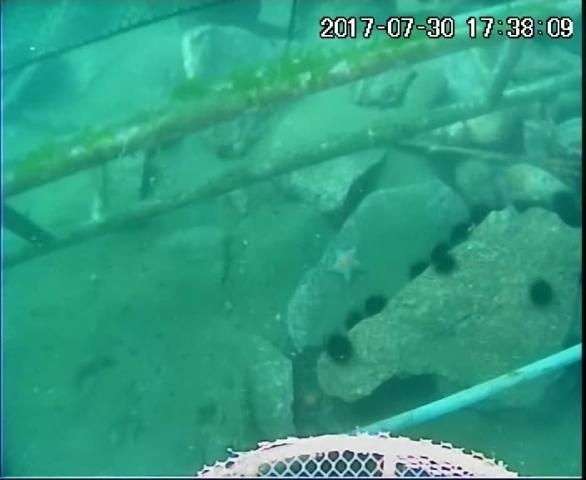echinus: (390, 369, 445, 414), (320, 330, 359, 370), (426, 241, 462, 280), (523, 276, 559, 313), (463, 198, 499, 232), (508, 193, 547, 220), (445, 218, 477, 249), (359, 291, 392, 321), (340, 305, 370, 334), (403, 256, 432, 285), (550, 188, 576, 214), (560, 209, 586, 230)
starfish: (322, 242, 370, 286)
